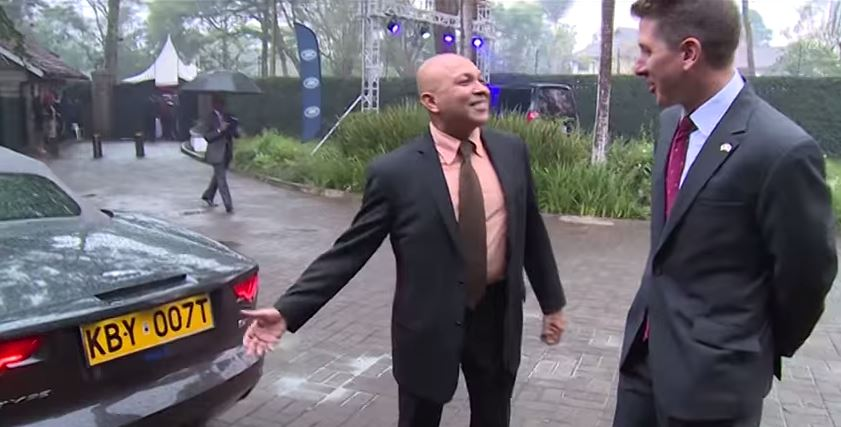licencePlate: (69, 289, 223, 362)
